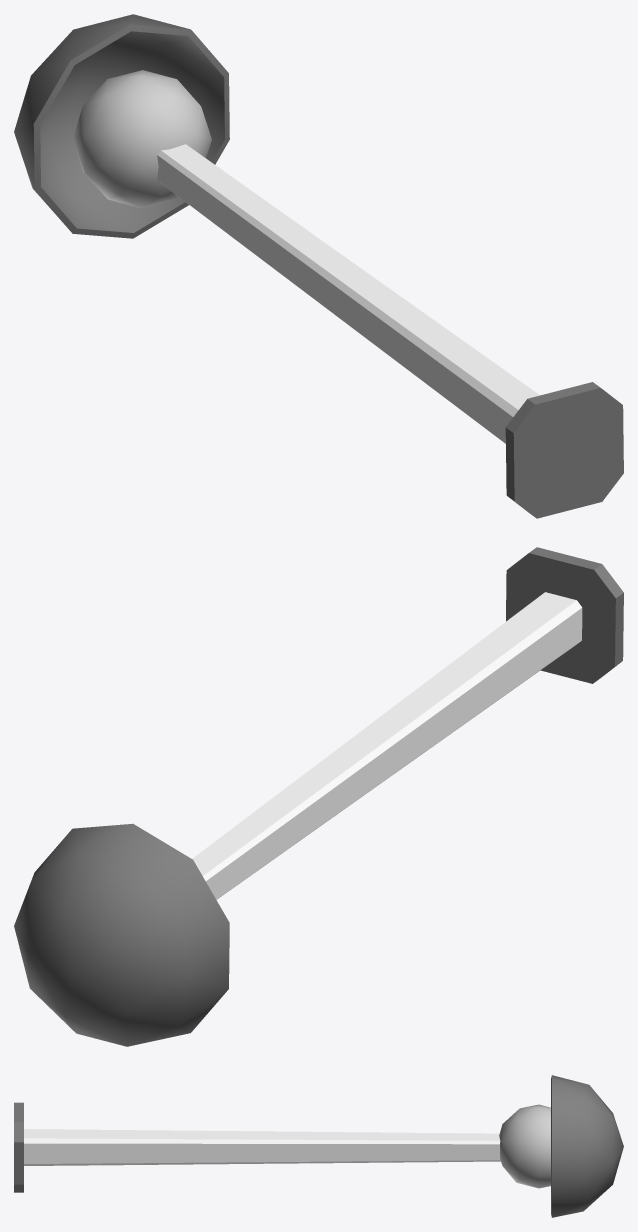
The model's file is P_Light04.fbx.
3 views of the same model, one above another, from view 1: azimuth 30°, elevation 25°; view 2: azimuth 150°, elevation 25°; view 3: azimuth 270°, elevation 25° (orthographic). The views are drawn at different scales.
Visible parts, largest first — view 1: polelight02; view 2: polelight02; view 3: polelight02.
Part boxes in pixels (x1,y1,x2,y2): polelight02: (14,14,623,518); polelight02: (14,547,623,1046); polelight02: (14,1075,623,1217).
Size of the model in its own units: 118 by 123 by 516.
